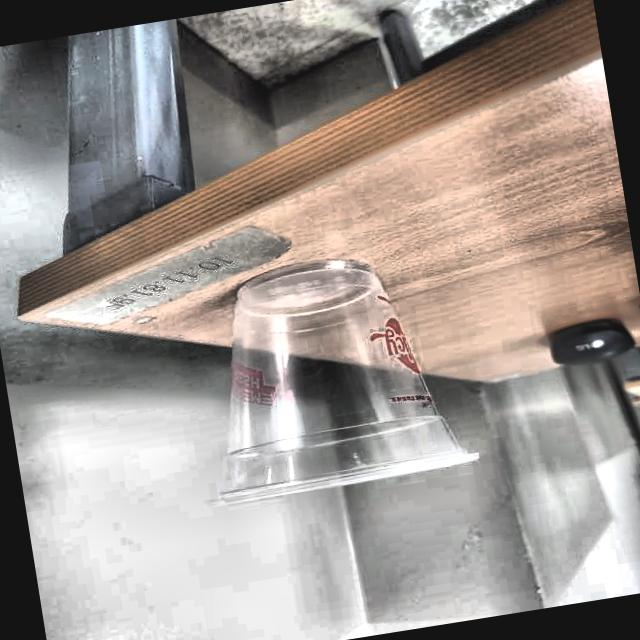plastic cup: (168, 238, 484, 508)
